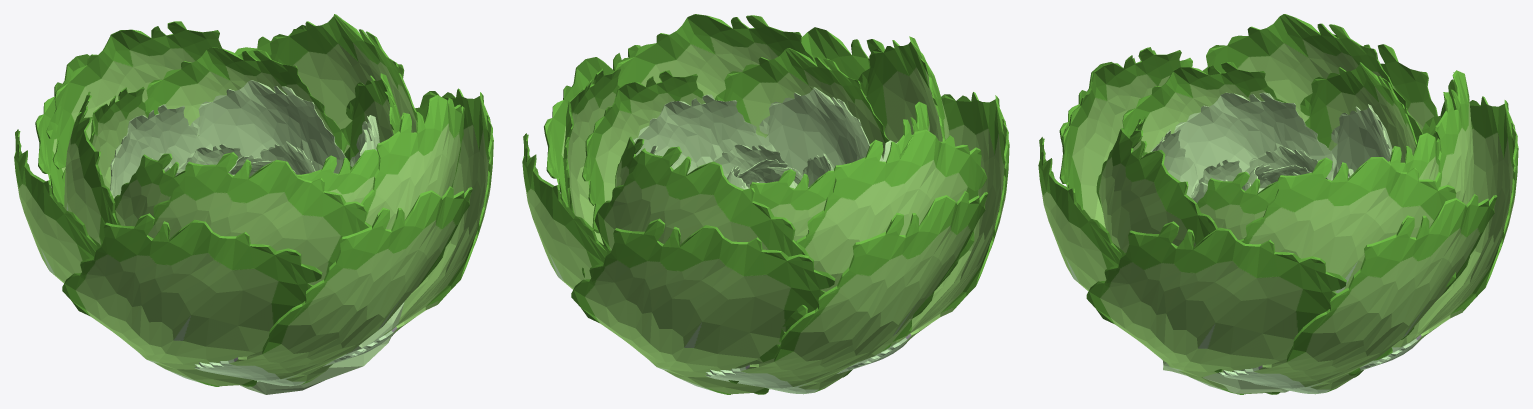
Rendered from yang1129.fbx.
3 renders of one model, left to right at view 1: azimuth 30°, elevation 25°; view 2: azimuth 150°, elevation 25°; view 3: azimuth 270°, elevation 25°, orthographic.
Parts seen in each view (by area): view 1: Null; view 2: Null; view 3: Null.
Part boxes in pixels (x1=…): Null: x1=14, y1=14, x2=493, y2=394; Null: x1=522, y1=14, x2=1009, y2=394; Null: x1=1038, y1=14, x2=1518, y2=394.
Size of the model in its own units: 247 by 160 by 247.
2 materials, 1 textured.
